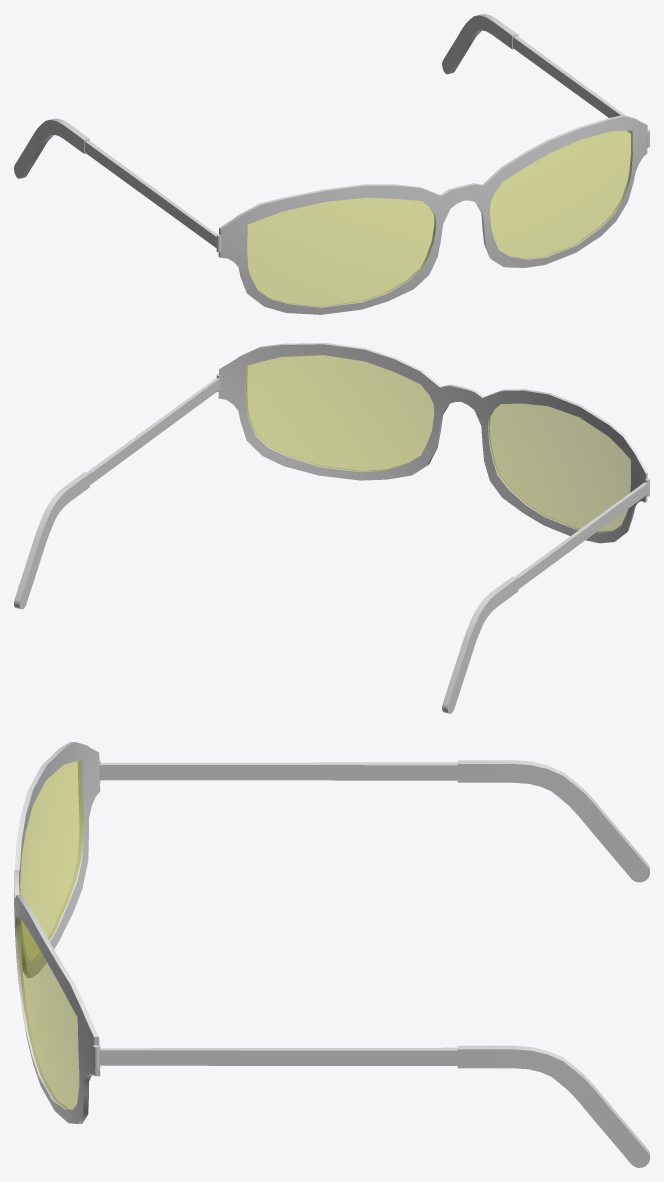
3 views of the same model, one above another, from view 1: azimuth 30°, elevation 25°; view 2: azimuth 150°, elevation 25°; view 3: azimuth 270°, elevation 25° (orthographic). The views are drawn at different scales.
Visible parts, largest first — view 1: Lens, black; view 2: Lens, black; view 3: black, Lens.
Part boxes in pixels (left/top/right/bottom): Lens: left=247, top=130, right=632, bottom=306; black: left=14, top=14, right=649, bottom=314; Lens: left=246, top=355, right=630, bottom=532; black: left=14, top=343, right=649, bottom=713; black: left=14, top=742, right=649, bottom=1167; Lens: left=17, top=761, right=83, bottom=1109.
Bounding box in the file's own units: 1.99 × 0.5597 × 1.85.
